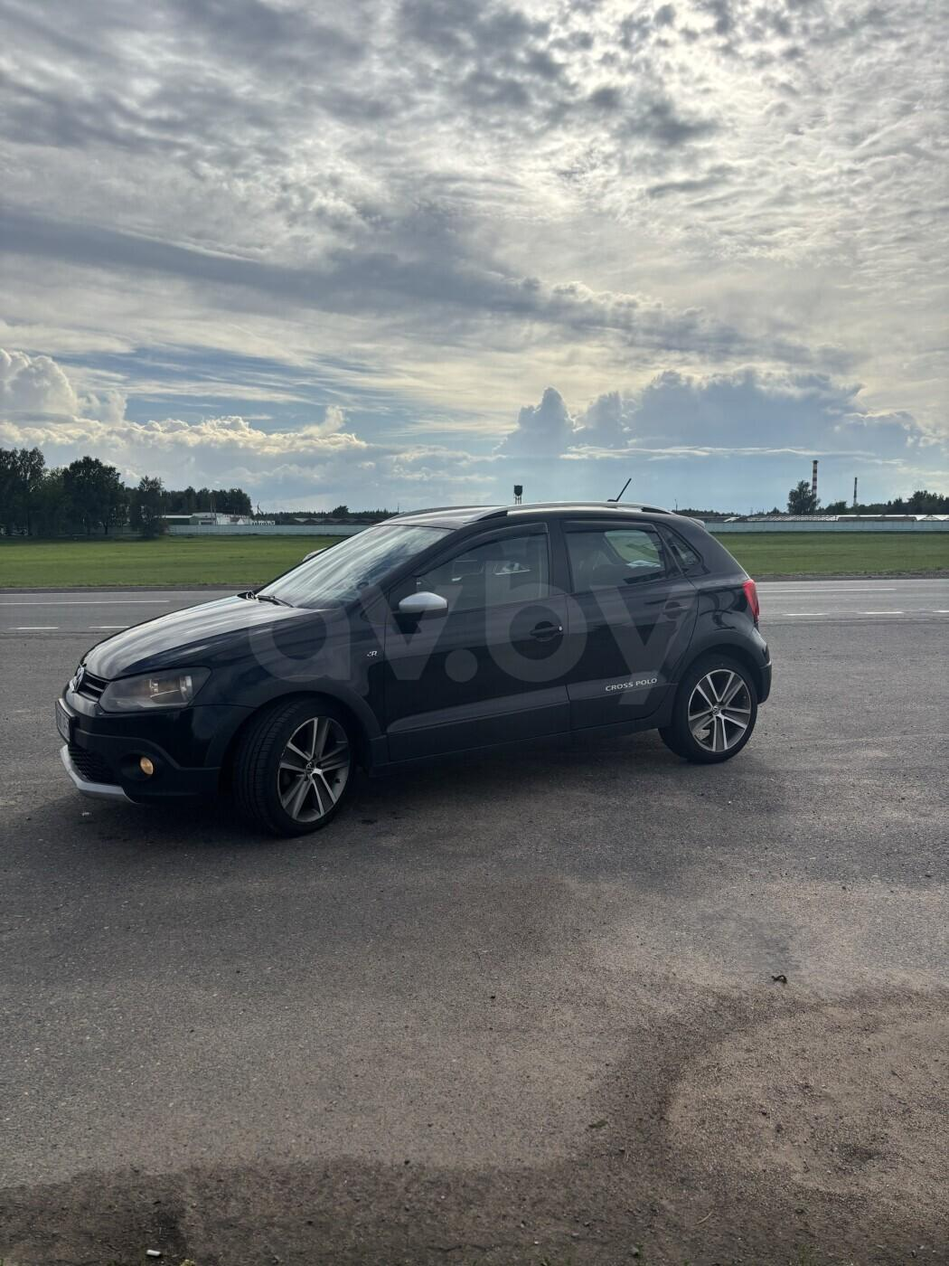Polo_2009-2015: (11, 472, 804, 881)
